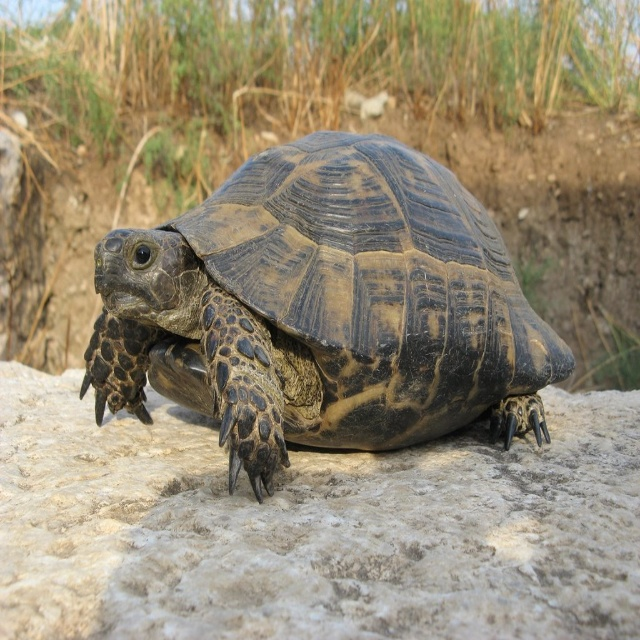Sea turtle: (79, 130, 576, 504)
